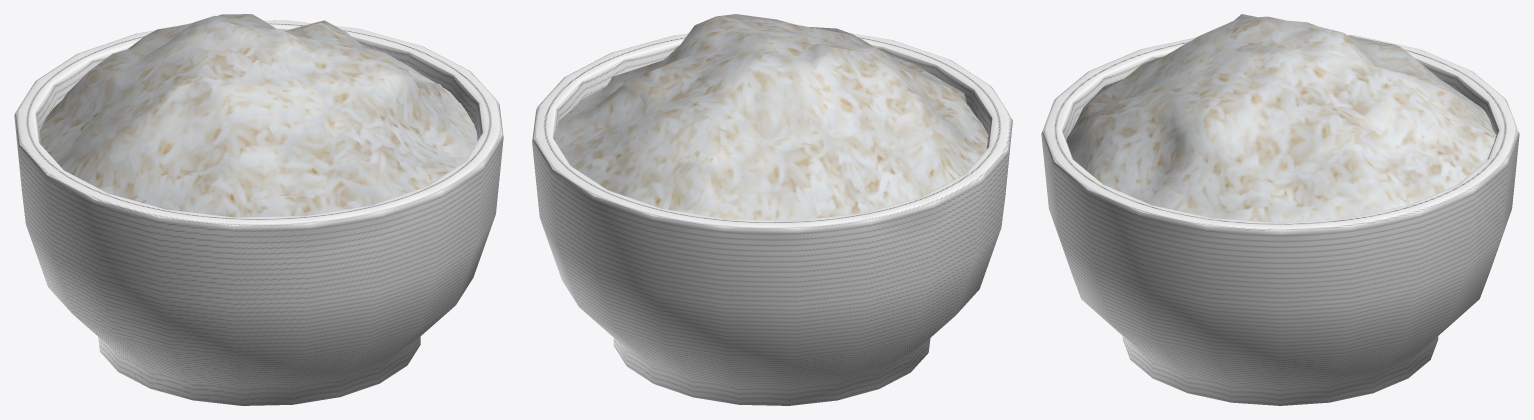
The model's file is rice.fbx.
3 renders of one model, left to right at view 1: azimuth 30°, elevation 25°; view 2: azimuth 150°, elevation 25°; view 3: azimuth 270°, elevation 25°, orthographic. The views are drawn at different scales.
Visible parts, largest first — view 1: Rice2; view 2: Rice2; view 3: Rice2.
Part boxes in pixels (<box>): Rice2: <box>14,14,503,405</box>; Rice2: <box>532,14,1012,405</box>; Rice2: <box>1041,14,1519,405</box>.
Size of the model in its own units: 3.12 by 2.13 by 3.12.
1 material, 1 textured.
